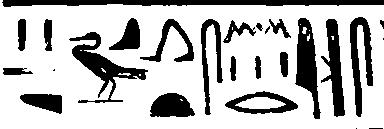Mouth: (223, 91, 299, 115)
Reed: (295, 16, 322, 120)
Water: (224, 18, 291, 43)
